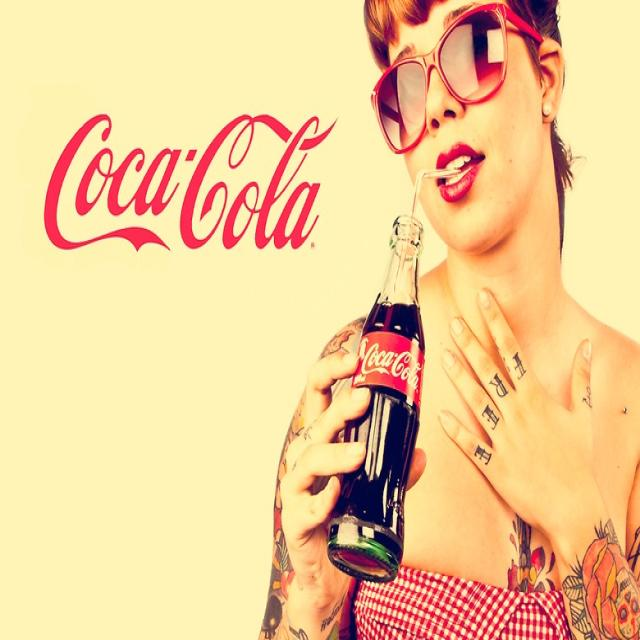coca cola: (29, 107, 347, 258), (354, 327, 429, 402)
